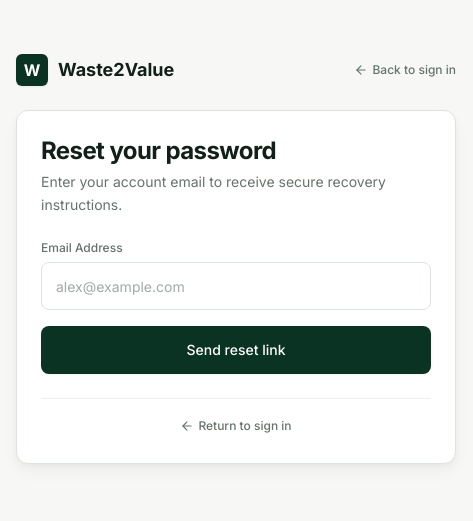
Test: Authentication Flows & Security UX › ForgotPasswordPage Behavior › validates email format and displays account-enumeration safe confirmation
Click the button "Send reset link".
click(236, 350)  # box [41, 326, 431, 374]
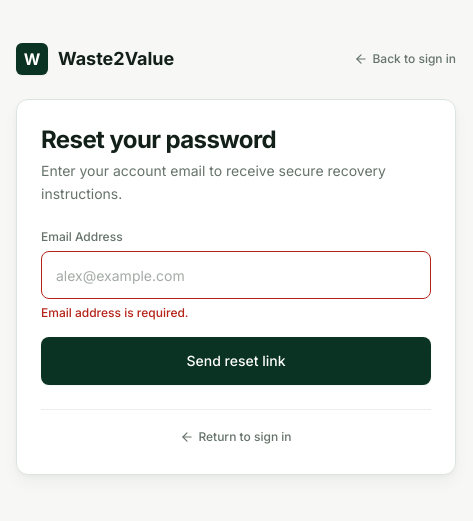
Result: the text "Email address is required." is shown at [41, 305, 188, 320]
// Valid email
Type "user@example.com" into the field labelled "Email Address".
click(236, 275); type("user@example.com")  # box [41, 251, 431, 299]
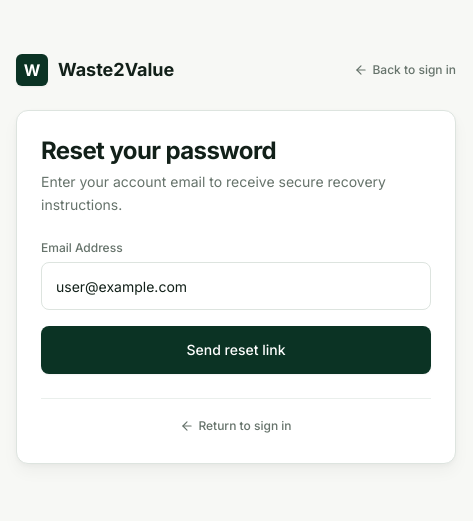
Click the button "Send reset link".
click(236, 350)  # box [41, 326, 431, 374]
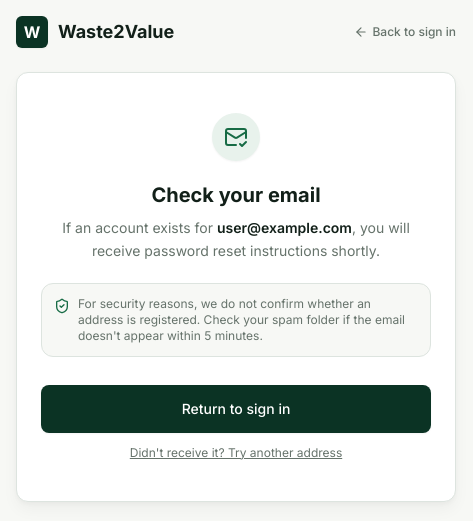
Result: the heading "Check your email" is shown at [151, 183, 321, 207]
Result: the text "If an account exists for" is shown at [62, 219, 217, 236]
Result: the button "Return to sign in" is shown at [41, 385, 431, 433]
